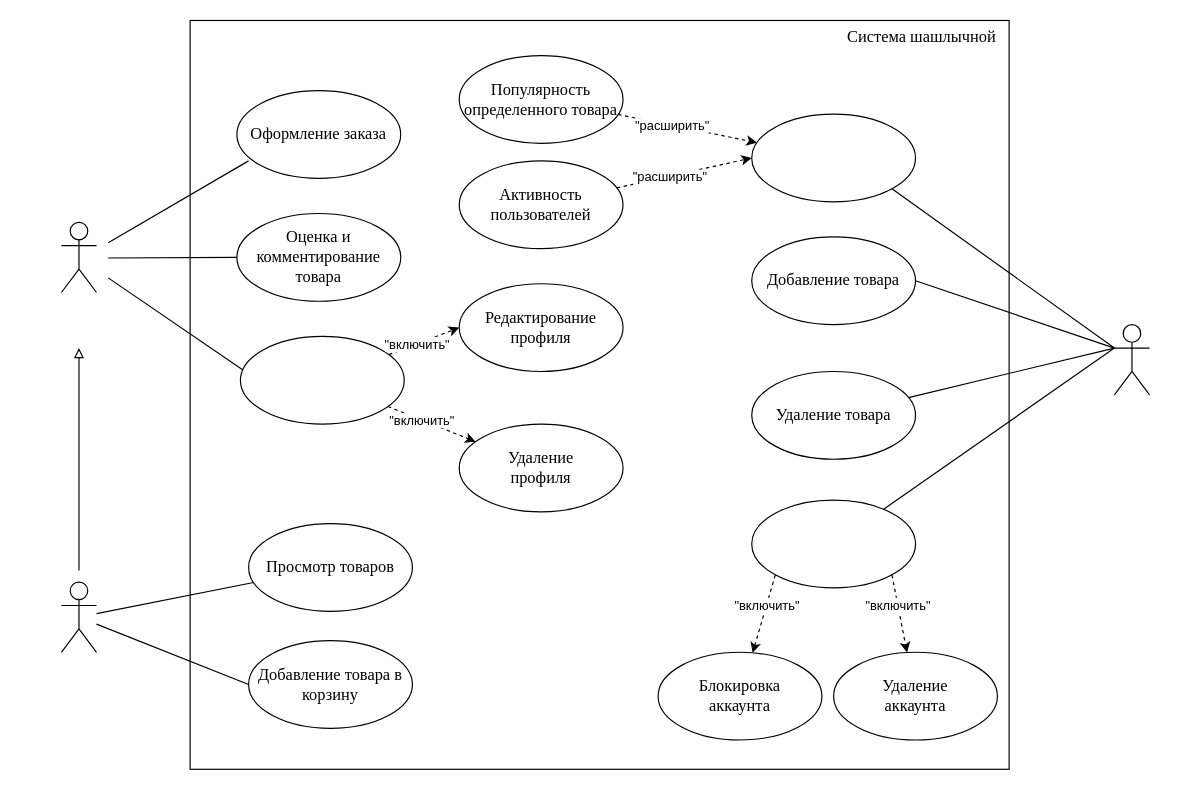
This 1189x790 diagram has some shape labels left out. The box of each missing label's shape, as (x1, y1, x2, y2) in pixels:
Авторизованный пользователь: (60, 221, 97, 292)
Гость: (60, 581, 97, 652)
Менеджер: (1113, 324, 1150, 395)
Просмотр и анализ статистики: (751, 113, 916, 202)
Управление персональным профилем: (239, 335, 404, 424)
Управление пользователями: (751, 499, 916, 588)
